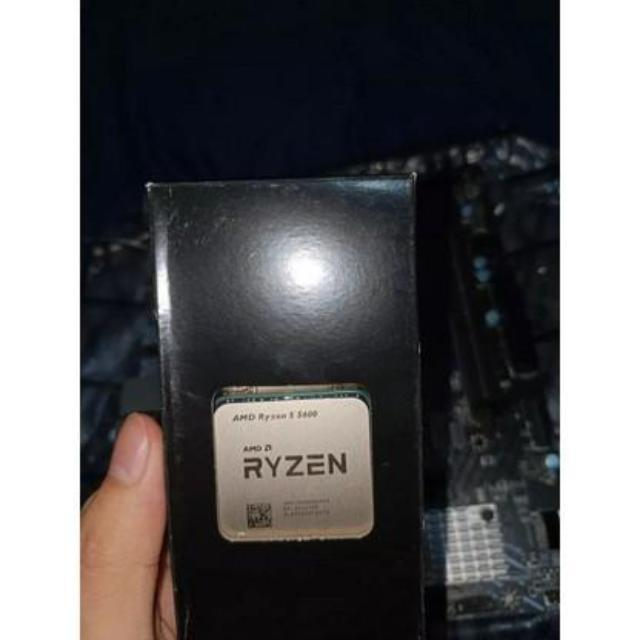CPU: (210, 388, 378, 552)
